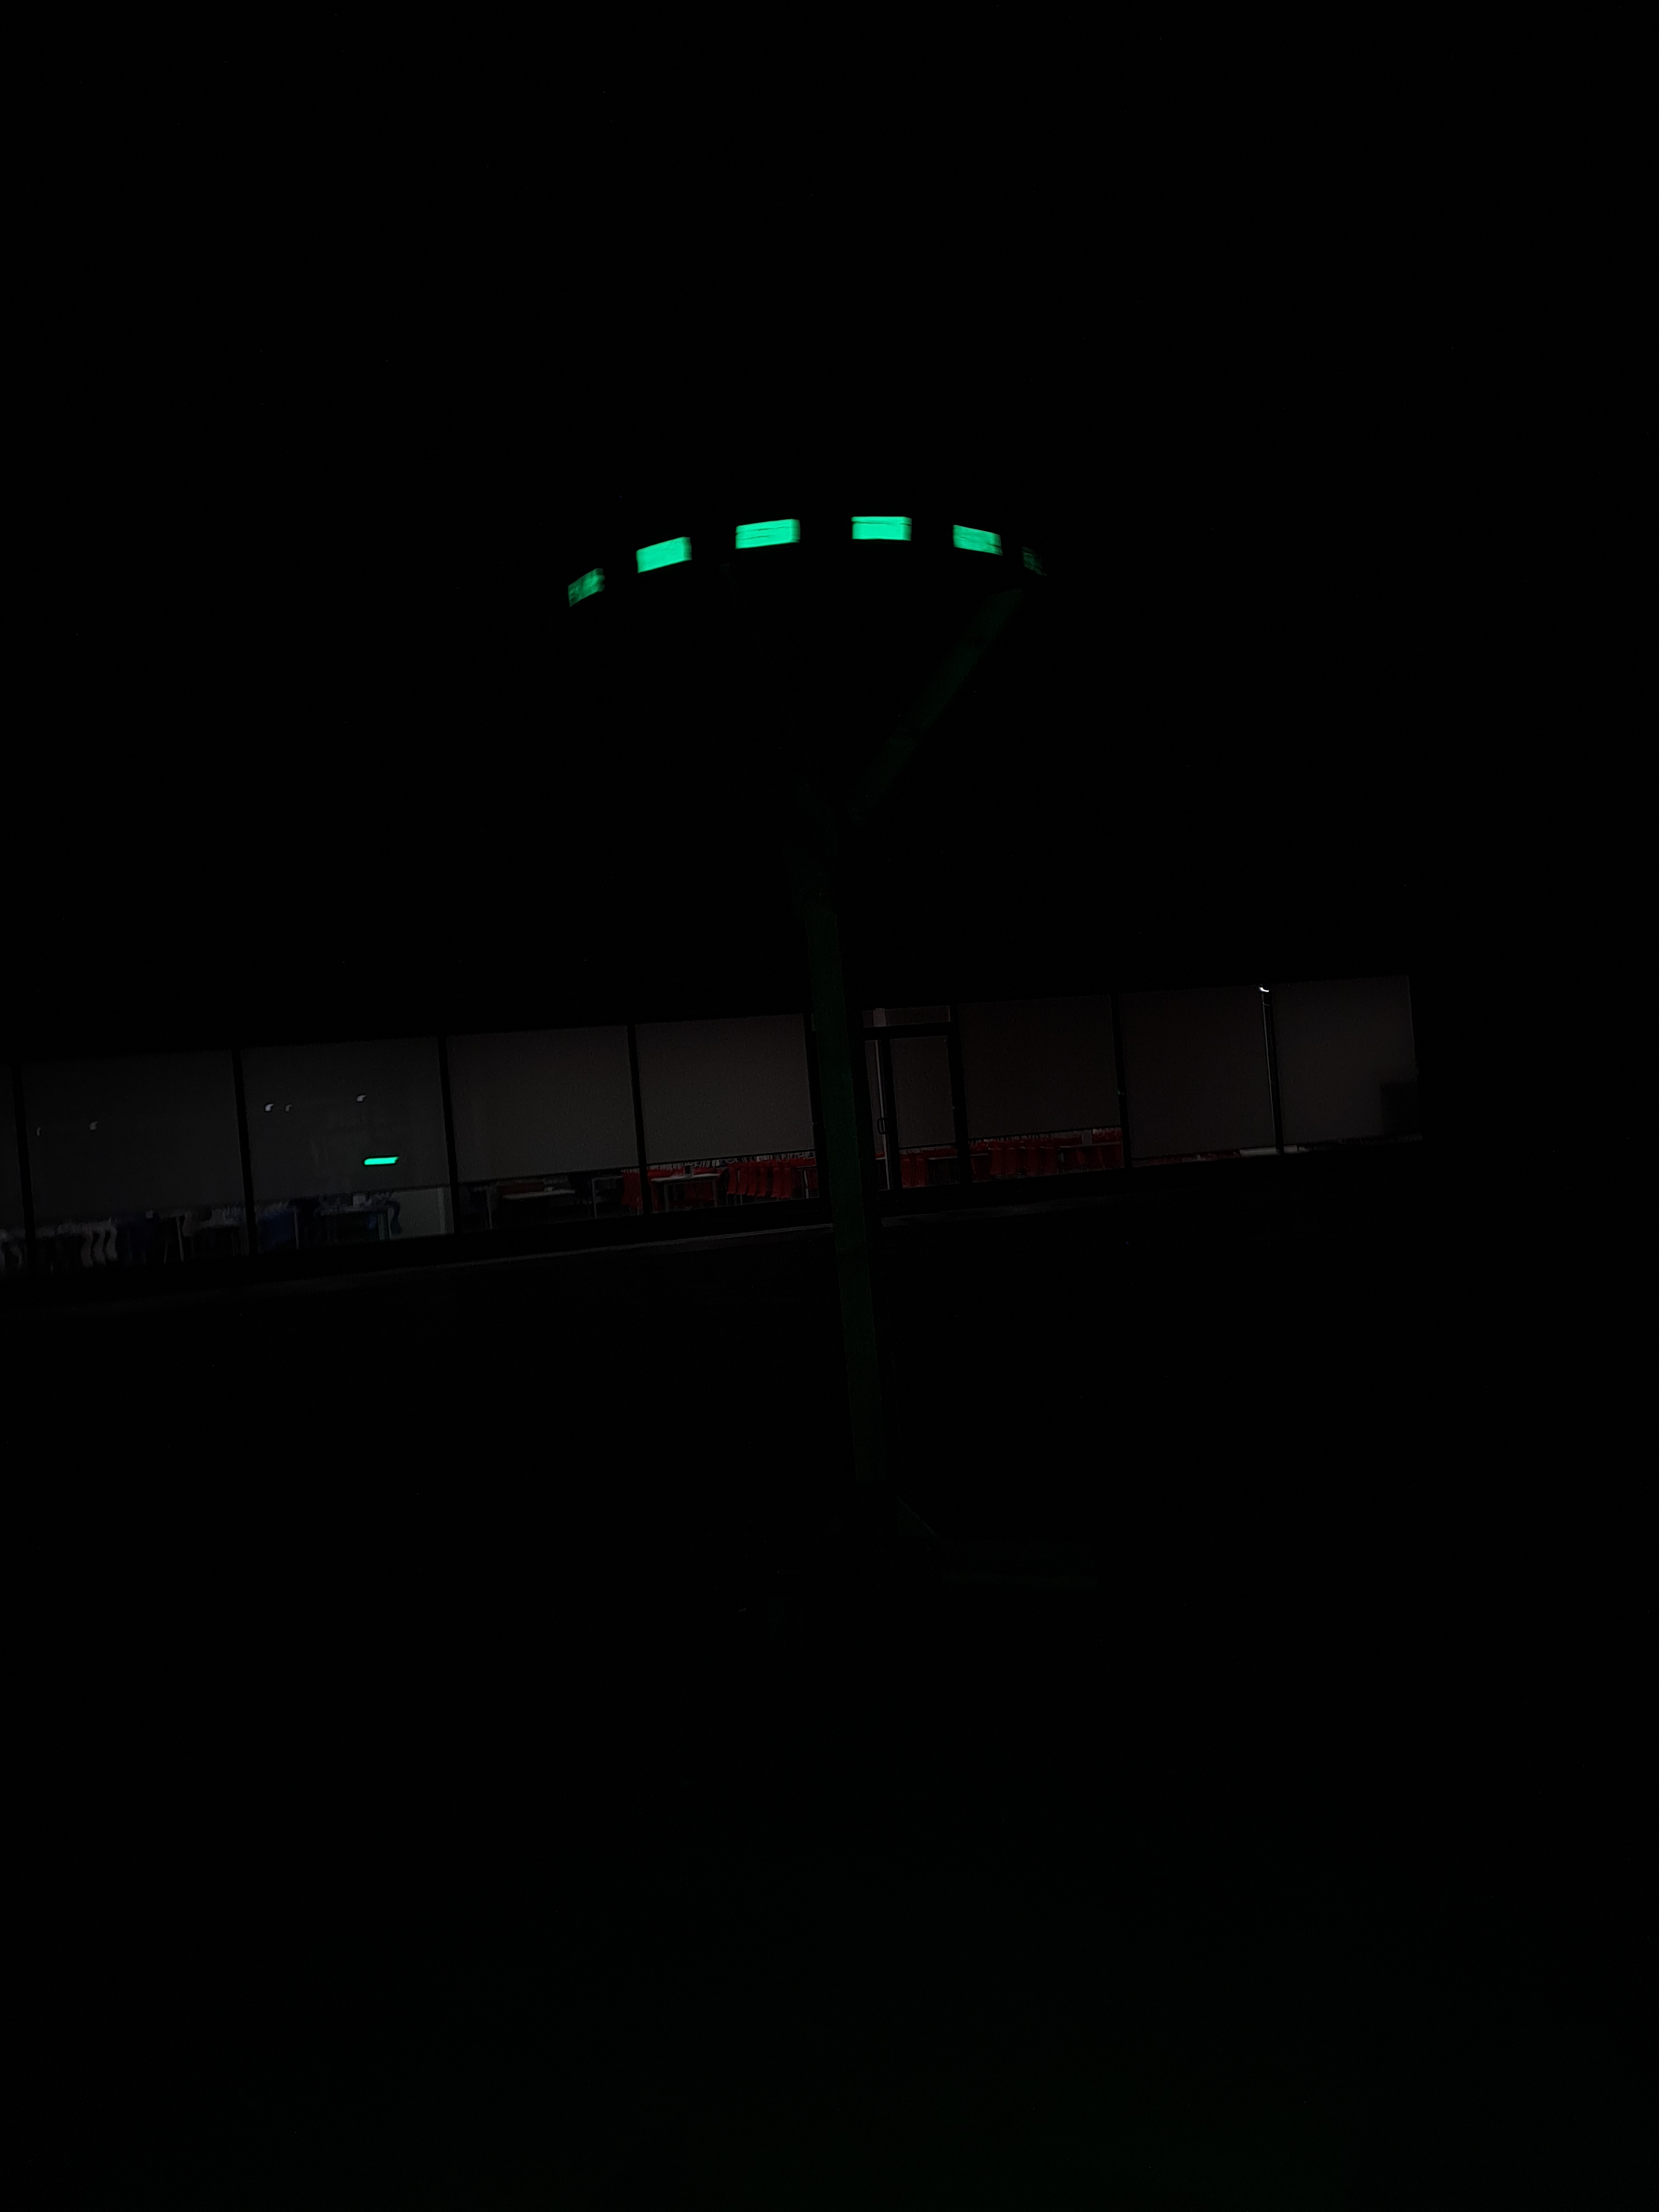hoop: (559, 512, 1054, 620)
